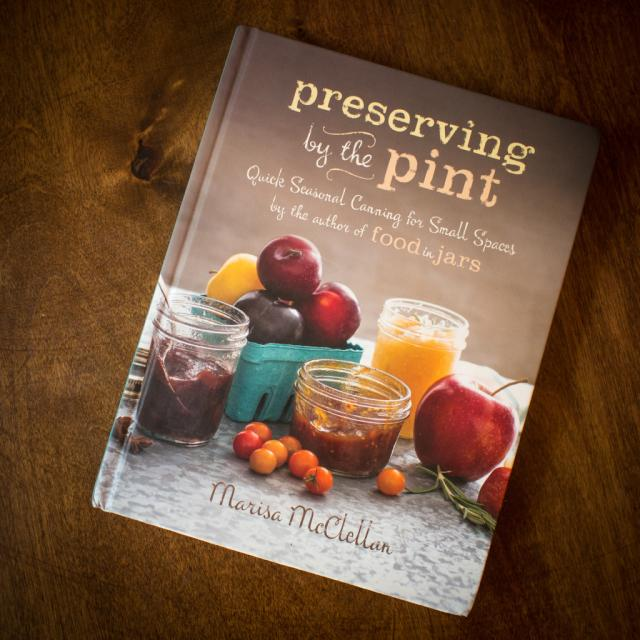Healty Apple: (417, 379, 512, 489), (256, 232, 326, 303), (233, 288, 303, 344), (304, 280, 360, 347), (206, 253, 260, 305), (476, 464, 514, 518)
